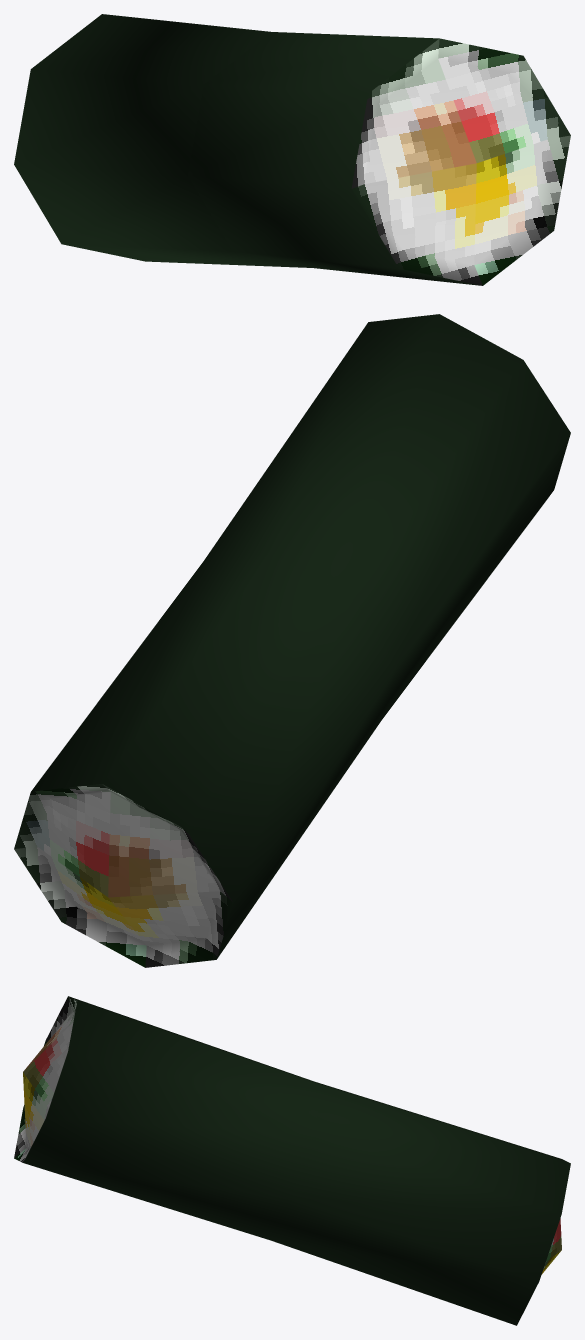
The model's file is ehoumaki.dae.
3 views of the same model, one above another, from view 1: azimuth 30°, elevation 25°; view 2: azimuth 150°, elevation 25°; view 3: azimuth 270°, elevation 25° (orthographic). The views are drawn at different scales.
Visible parts, largest first — view 1: ehoumaki; view 2: ehoumaki; view 3: ehoumaki.
Part boxes in pixels (x1=…): ehoumaki: x1=14, y1=14, x2=570, y2=285; ehoumaki: x1=14, y1=314, x2=570, y2=967; ehoumaki: x1=14, y1=996, x2=570, y2=1325.
Size of the model in its own units: 4.11 by 7.85 by 12.35.
1 material, 1 textured.
